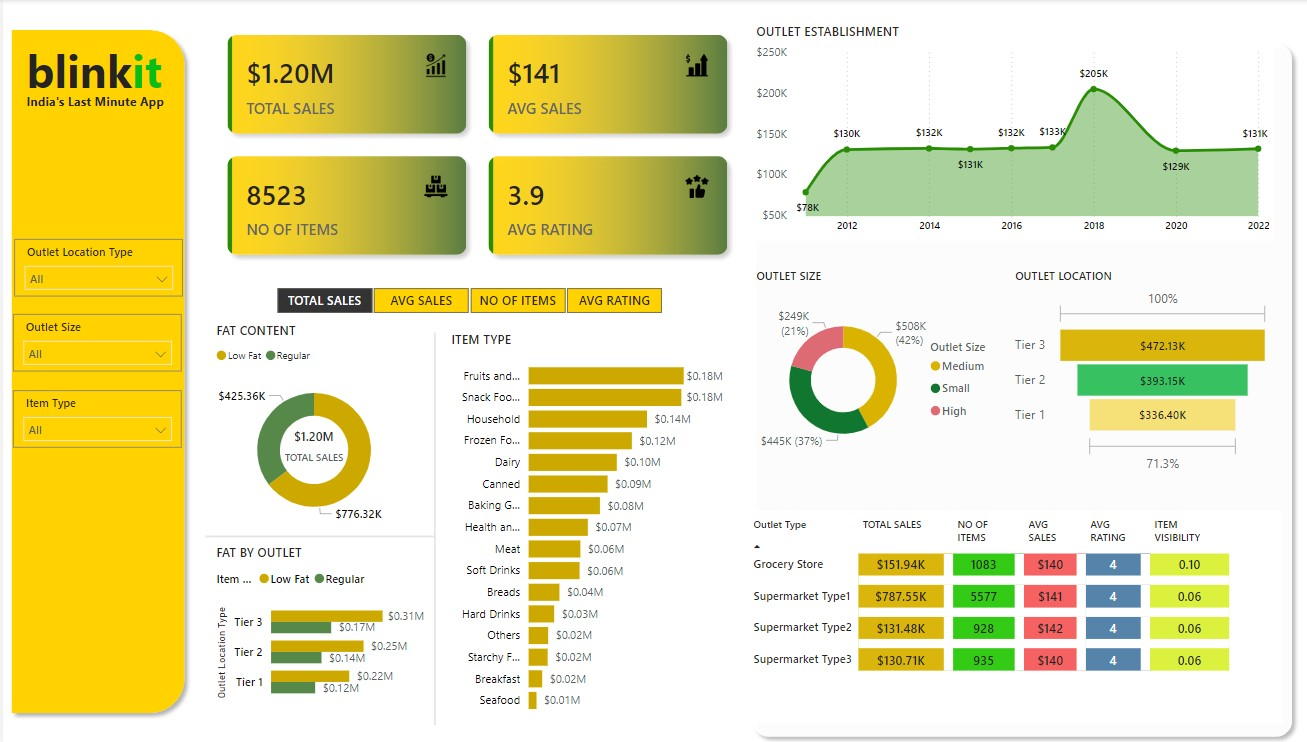

The page's visual inventory and layout, read from the dashboard file:
{"tool":"powerbi","page":{"name":"Page 1","canvas":[1400,800],"ordinal":0},"visuals":[{"type":"shape","box":[0,25.5,204.1,750.4],"z":0},{"type":"textbox","box":[19.5,39,204.1,150.1],"z":1000},{"type":"textbox","box":[19.5,94.6,283.7,123.1],"z":2000},{"type":"cardVisual","fields":{"Data":["BlinkIT Grocery Data.TOTAL SALES","BlinkIT Grocery Data.AVG SALES","BlinkIT Grocery Data.NO OF ITEMS","BlinkIT Grocery Data.AVG RATING"]},"box":[223.6,21,570.3,270.2],"z":3000},{"type":"shape","box":[794.9,38.9,596.5,761.4],"z":4000},{"type":"donutChart","title":"FAT CONTENT","fields":{"Y":["BlinkIT Grocery Data.TOTAL SALES"],"Category":["BlinkIT Grocery Data.Item Fat Content"]},"box":[223.9,345.8,219.8,230.6],"z":5000},{"type":"slicer","fields":{"Values":["Metrics.Metrics"]},"box":[268.1,303,462.5,40.2],"z":6000},{"type":"cardVisual","fields":{"Data":["BlinkIT Grocery Data.TOTAL SALES"]},"box":[281.5,442.4,104.6,61.7],"z":7000},{"type":"clusteredBarChart","title":"FAT BY OUTLET","fields":{"Y":["BlinkIT Grocery Data.TOTAL SALES"],"Category":["BlinkIT Grocery Data.Outlet Location Type"],"Series":["BlinkIT Grocery Data.Item Fat Content"]},"box":[223.9,584.5,233.2,179.6],"z":8000},{"type":"shape","box":[217.2,568.4,246.7,16.1],"z":9000},{"type":"shape","box":[457.1,357.9,12.1,420.9],"z":10000},{"type":"barChart","title":"ITEM TYPE","fields":{"Y":["BlinkIT Grocery Data.TOTAL SALES"],"Category":["BlinkIT Grocery Data.Item Type"]},"box":[475.9,355.2,301.6,420.9],"z":11000},{"type":"lineChart","title":"OUTLET ESTABLISHMENT","fields":{"Y":["BlinkIT Grocery Data.TOTAL SALES"],"Category":["BlinkIT Grocery Data.Outlet Establishment Year"]},"box":[803,25.5,560.3,234.6],"z":12000},{"type":"donutChart","title":"OUTLET SIZE","fields":{"Category":["BlinkIT Grocery Data.Outlet Size"],"Y":["BlinkIT Grocery Data.TOTAL SALES"]},"box":[803,288.2,277.5,225.2],"z":13000},{"type":"funnel","title":"OUTLET LOCATION","fields":{"Category":["BlinkIT Grocery Data.Outlet Location Type"],"Y":["BlinkIT Grocery Data.TOTAL SALES"]},"box":[1080.4,288.2,282.8,225.2],"z":13001},{"type":"pivotTable","fields":{"Rows":["BlinkIT Grocery Data.Outlet Type"],"Values":["BlinkIT Grocery Data.TOTAL SALES","BlinkIT Grocery Data.NO OF ITEMS","BlinkIT Grocery Data.AVG SALES","BlinkIT Grocery Data.AVG RATING","Avg(BlinkIT Grocery Data.Item Visibility)"]},"box":[794.9,548.3,576.4,227.9],"z":13002},{"type":"slicer","fields":{"Values":["BlinkIT Grocery Data.Outlet Location Type"]},"box":[12.1,257.4,181,61.7],"z":13003},{"type":"slicer","fields":{"Values":["BlinkIT Grocery Data.Outlet Size"]},"box":[12.1,370,181,61.7],"z":13004},{"type":"slicer","fields":{"Values":["BlinkIT Grocery Data.Item Type"]},"box":[12.1,473.2,181,61.7],"z":13005}]}

Visuals, with their boxes in screenshot pixels (x1, y1, x2, y2), scaled from the page's 1400x800 canvas onto the 1307x742 screenshot:
shape: {"x1": 0, "y1": 24, "x2": 191, "y2": 720}
textbox: {"x1": 18, "y1": 36, "x2": 209, "y2": 175}
textbox: {"x1": 18, "y1": 88, "x2": 283, "y2": 202}
cardVisual - BlinkIT Grocery Data.TOTAL SALES x BlinkIT Grocery Data.AVG SALES: {"x1": 209, "y1": 19, "x2": 741, "y2": 270}
shape: {"x1": 742, "y1": 36, "x2": 1299, "y2": 741}
"FAT CONTENT" donutChart: {"x1": 209, "y1": 321, "x2": 414, "y2": 535}
slicer - Metrics.Metrics: {"x1": 250, "y1": 281, "x2": 682, "y2": 318}
cardVisual - BlinkIT Grocery Data.TOTAL SALES: {"x1": 263, "y1": 410, "x2": 360, "y2": 468}
"FAT BY OUTLET" clusteredBarChart: {"x1": 209, "y1": 542, "x2": 427, "y2": 709}
shape: {"x1": 203, "y1": 527, "x2": 433, "y2": 542}
shape: {"x1": 427, "y1": 332, "x2": 438, "y2": 722}
"ITEM TYPE" barChart: {"x1": 444, "y1": 329, "x2": 726, "y2": 720}
"OUTLET ESTABLISHMENT" lineChart: {"x1": 750, "y1": 24, "x2": 1273, "y2": 241}
"OUTLET SIZE" donutChart: {"x1": 750, "y1": 267, "x2": 1009, "y2": 476}
"OUTLET LOCATION" funnel: {"x1": 1009, "y1": 267, "x2": 1273, "y2": 476}
pivotTable - BlinkIT Grocery Data.Outlet Type x BlinkIT Grocery Data.TOTAL SALES: {"x1": 742, "y1": 509, "x2": 1280, "y2": 720}
slicer - BlinkIT Grocery Data.Outlet Location Type: {"x1": 11, "y1": 239, "x2": 180, "y2": 296}
slicer - BlinkIT Grocery Data.Outlet Size: {"x1": 11, "y1": 343, "x2": 180, "y2": 400}
slicer - BlinkIT Grocery Data.Item Type: {"x1": 11, "y1": 439, "x2": 180, "y2": 496}
